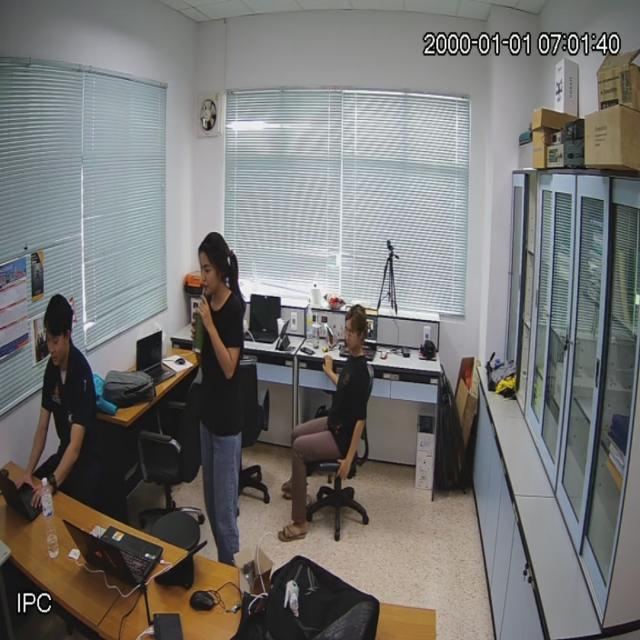normal: (270, 295, 377, 551), (187, 226, 250, 576), (34, 288, 95, 500)
